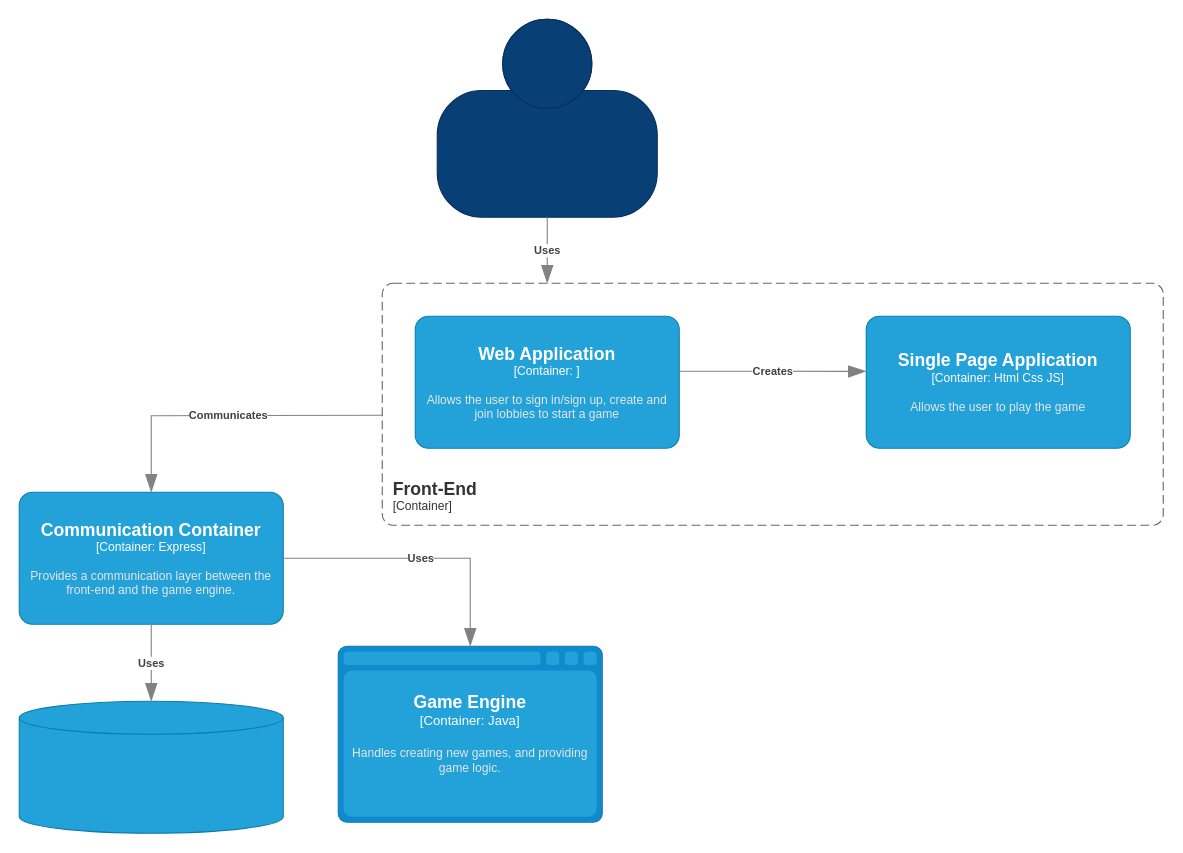
The diagram is 1183 pixels wide and 853 high, and some of its shapes have lost their labels. Here are the shapes that lost their labels. From the top down, the centre of each, then its label:
(546,117): User [Person] An user playing the game.
(150,766): Database [Container: Database: MySQL] Database
